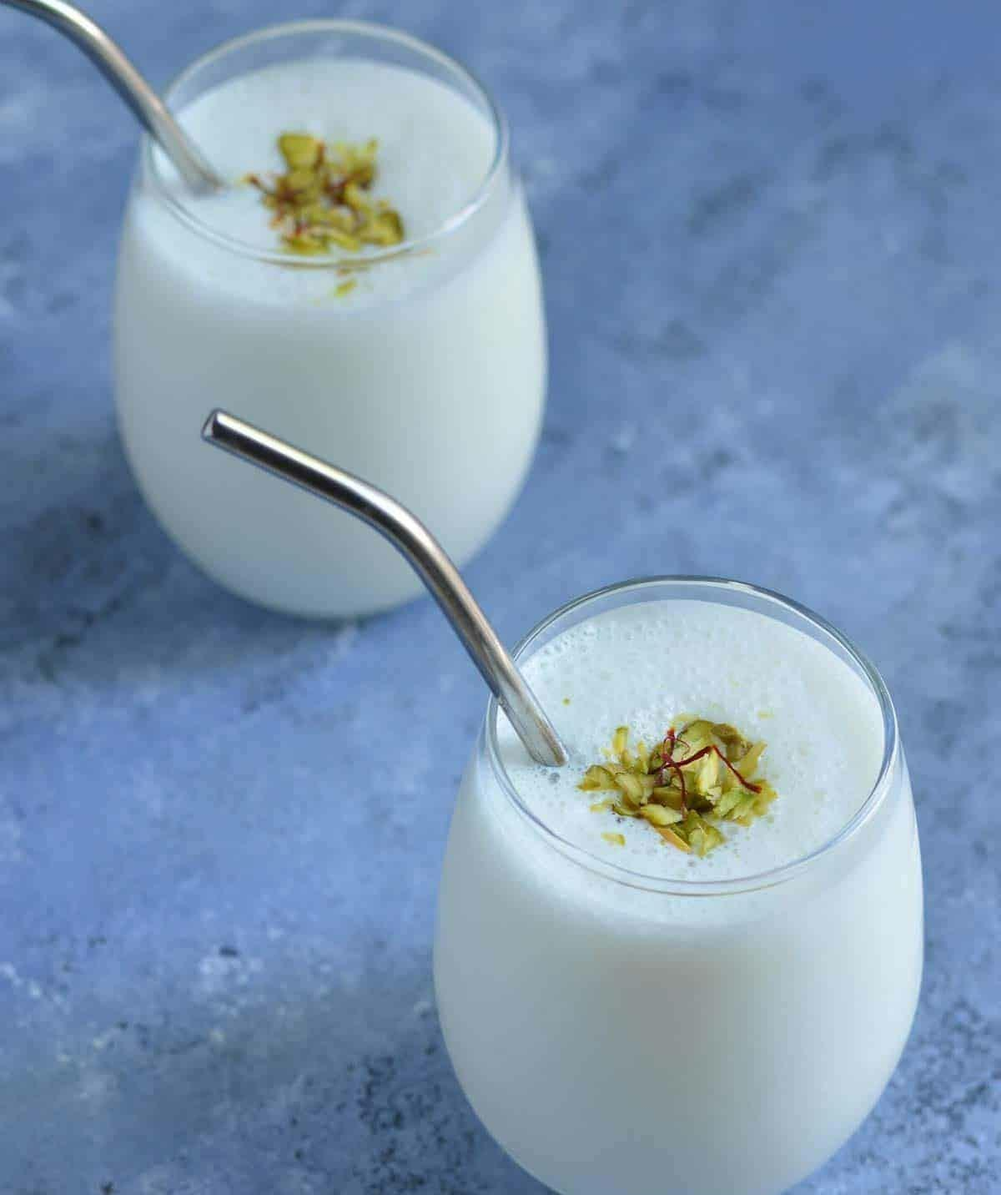Lassi: (431, 596, 922, 1195), (110, 61, 547, 612)
